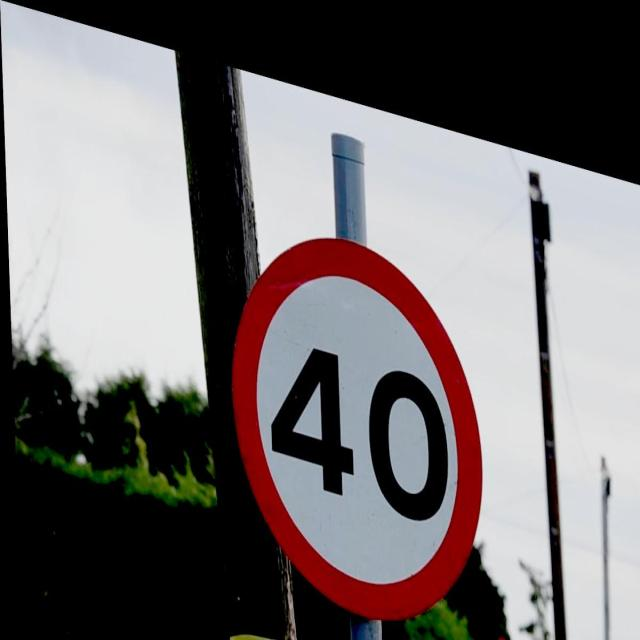speed limit 40: (232, 240, 483, 617)
